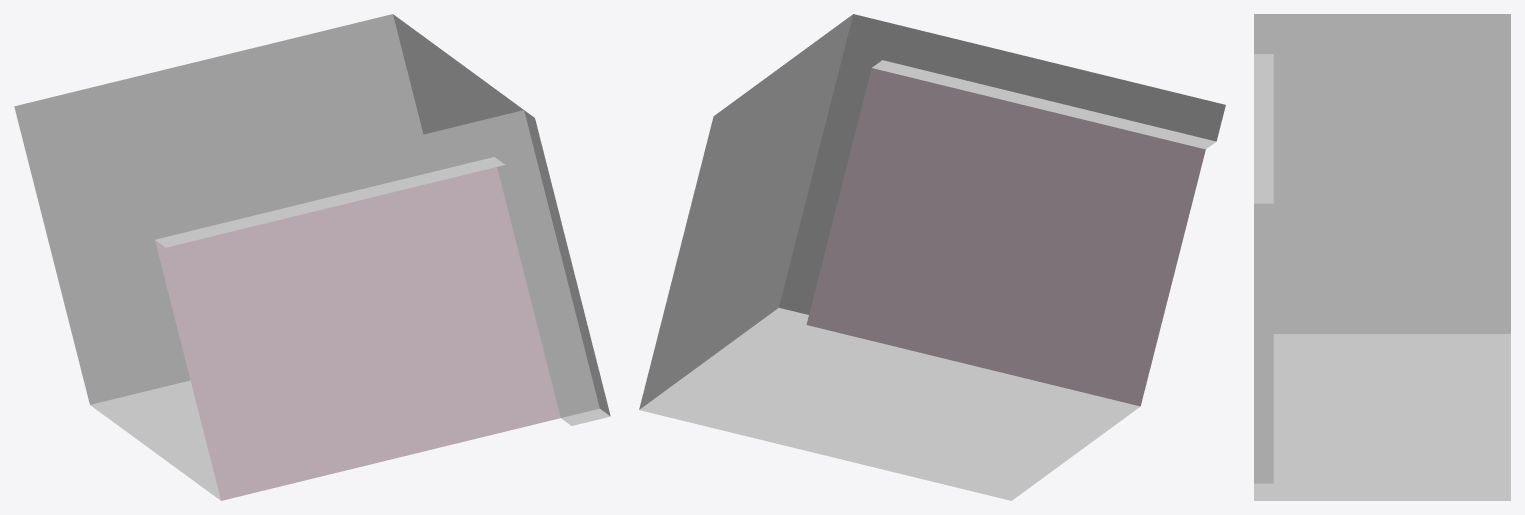
File: counter-set-01-07.glb
3 renders of one model, left to right at view 1: azimuth 30°, elevation 25°; view 2: azimuth 150°, elevation 25°; view 3: azimuth 270°, elevation 25°, orthographic. The views are drawn at different scales.
Parts seen in each view (by area): view 1: 3DGeom-12, 3DGeom-13; view 2: 3DGeom-12, 3DGeom-13; view 3: 3DGeom-12.
Part boxes in pixels (x1,y1,x2,y2): 3DGeom-12: (14, 14, 610, 500); 3DGeom-13: (155, 167, 560, 500); 3DGeom-12: (639, 14, 1225, 500); 3DGeom-13: (806, 68, 1205, 406); 3DGeom-12: (1254, 14, 1510, 500).
Size of the model in its own units: 1.2 by 0.8 by 0.65.
